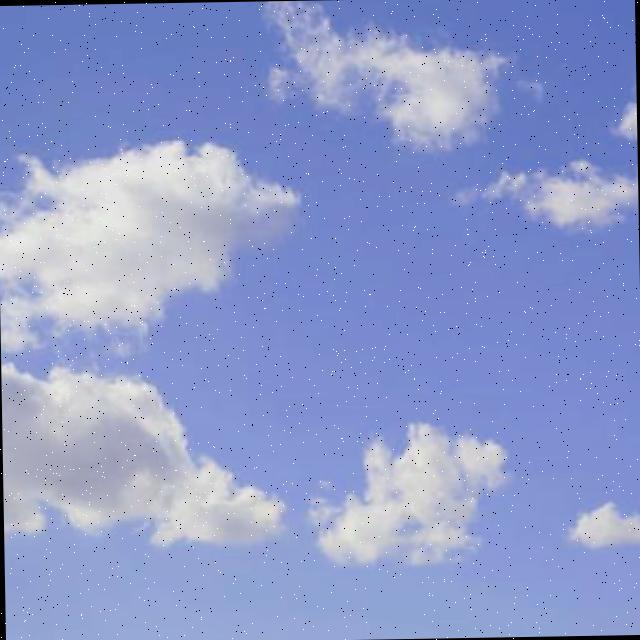Cc: (1, 1, 640, 567)
